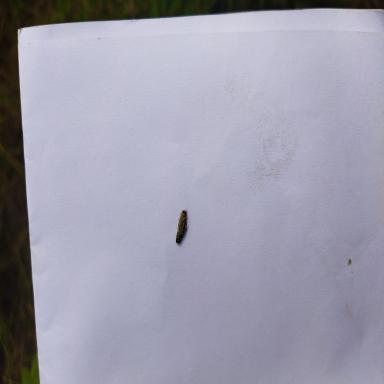pbw: (175, 208, 188, 244)
